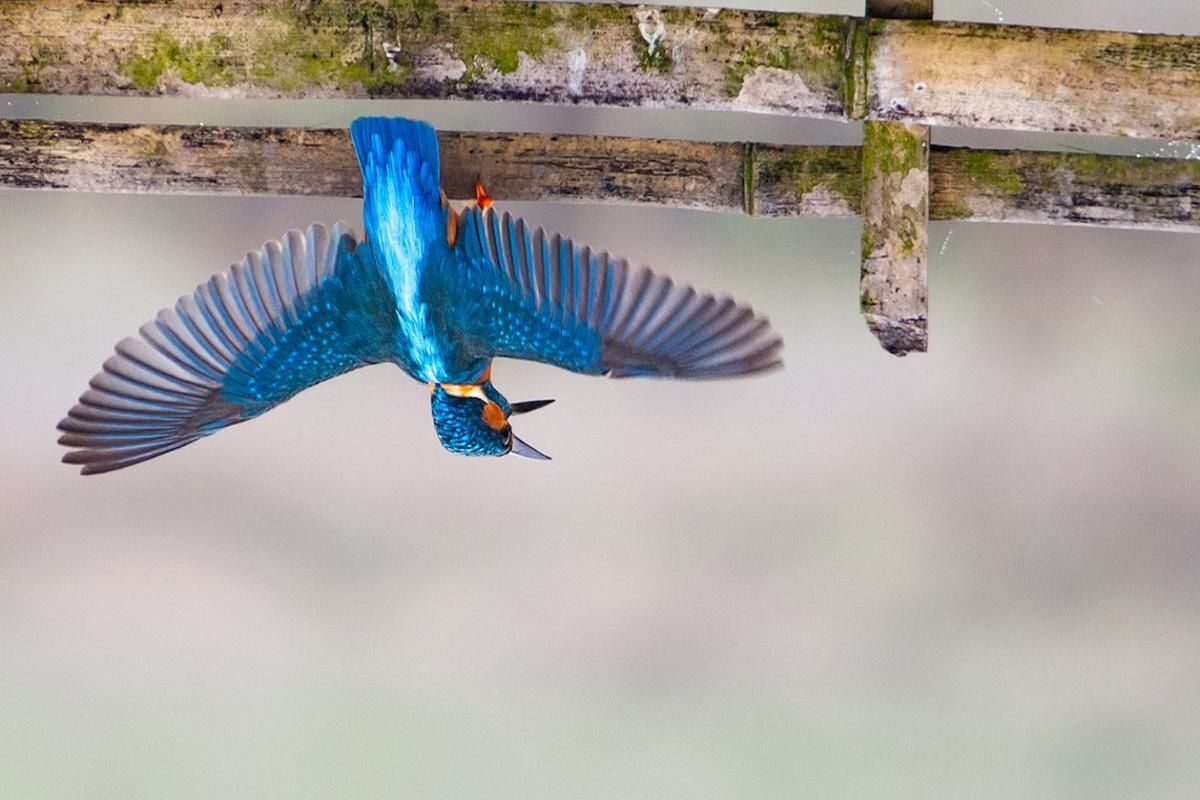kingfisher: (35, 116, 783, 461)
